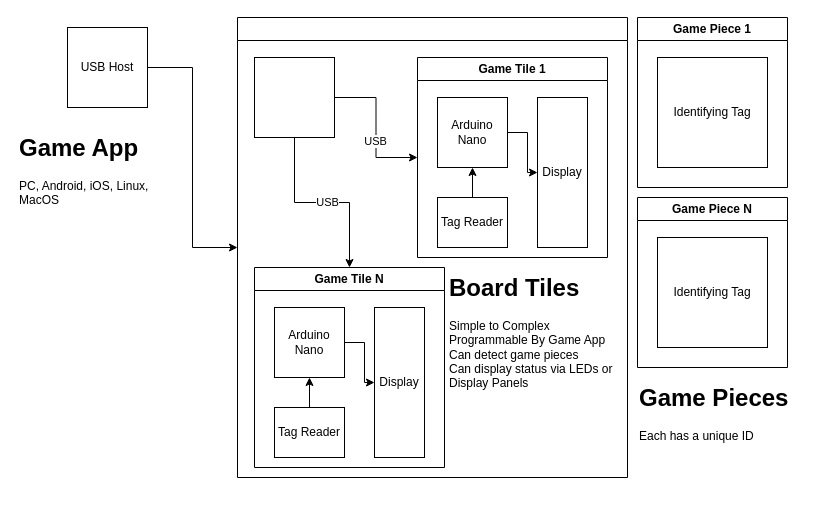
The diagram is 834 pixels wide and 518 high, and some of its shapes have lost their labels. Here are the shapes that lost their labels. From the top down, the box of each, then its label:
(254, 56, 334, 138): USB Hub
(236, 16, 628, 478): Game Board
